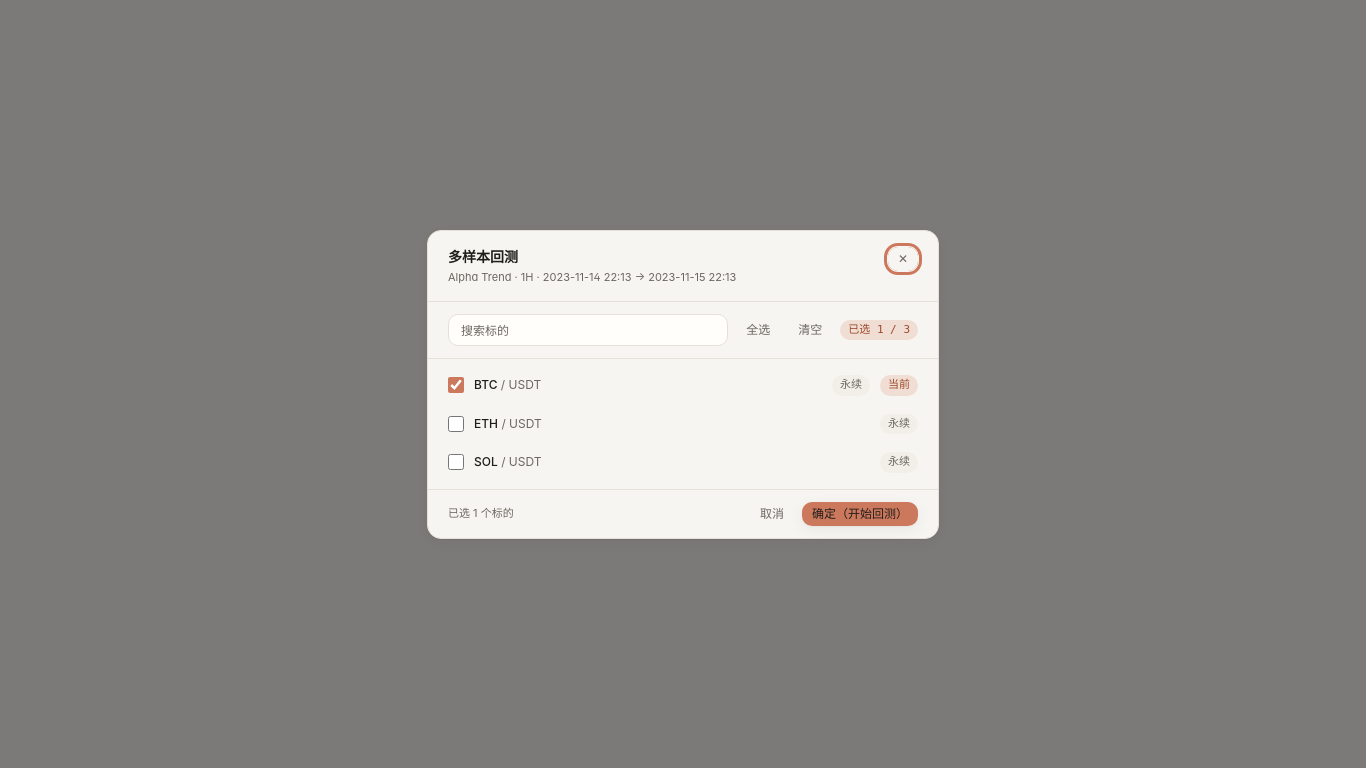
Test: MultiSampleBacktestModal › disables confirm when nothing is selected
Step 1. Click the button "清空" → (810, 330), box [788,318,832,342]
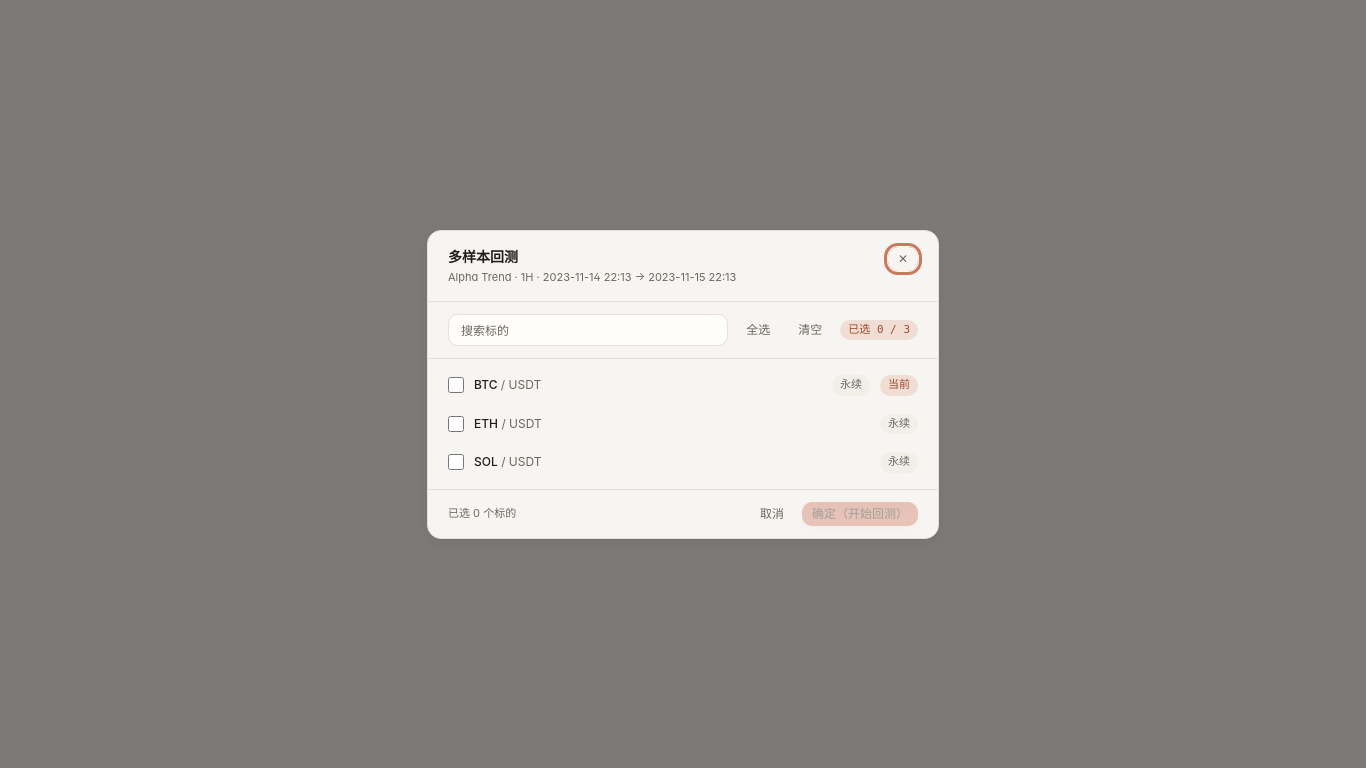
expect the button "确定（开始回测）" is disabled: met, box [802,502,918,526]
